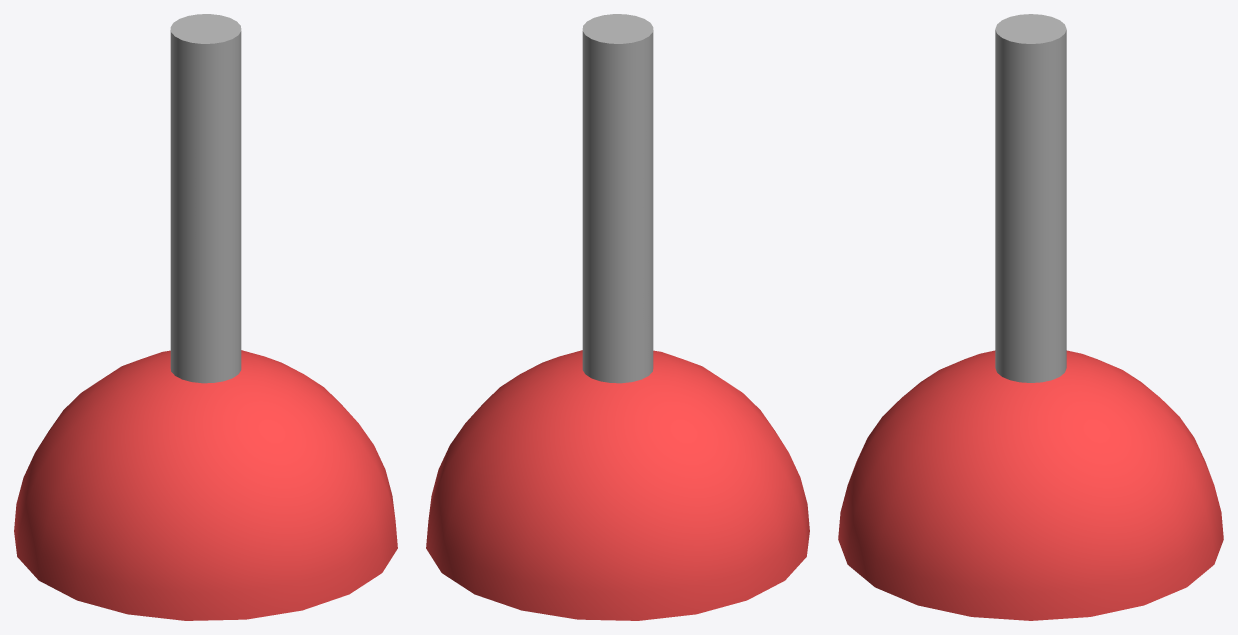
File: overheadLamp 1.fbx
3 renders of one model, left to right at view 1: azimuth 30°, elevation 25°; view 2: azimuth 150°, elevation 25°; view 3: azimuth 270°, elevation 25°, orthographic.
Visible parts, largest first — view 1: pSphere3, pCylinder1; view 2: pSphere3, pCylinder1; view 3: pSphere3, pCylinder1.
Part boxes in pixels (x1=…): pSphere3: x1=14, y1=350, x2=397, y2=620; pCylinder1: x1=170, y1=14, x2=241, y2=383; pSphere3: x1=426, y1=350, x2=809, y2=620; pCylinder1: x1=582, y1=14, x2=653, y2=383; pSphere3: x1=838, y1=350, x2=1223, y2=620; pCylinder1: x1=995, y1=14, x2=1066, y2=382.
Bounding box in the file's own units: 2 × 2.97 × 2.
